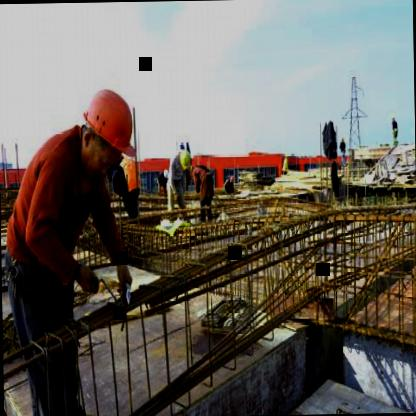helmet: (73, 78, 145, 176), (178, 148, 190, 174)
